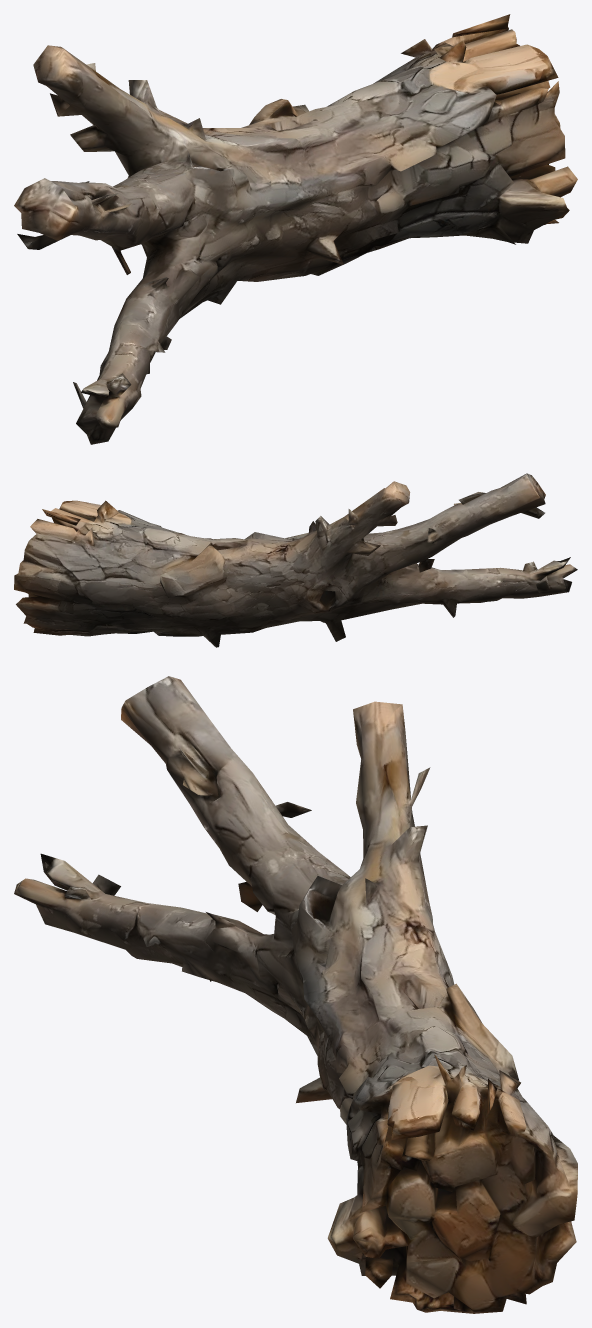
File: e_log.glb
3 renders of one model, top to bottom at view 1: azimuth 30°, elevation 25°; view 2: azimuth 150°, elevation 25°; view 3: azimuth 270°, elevation 25°, orthographic. The views are drawn at different scales.
Visible parts, largest first — view 1: tripo_node_05cba653-c34f-4658-bed8-ba67d39ff604; view 2: tripo_node_05cba653-c34f-4658-bed8-ba67d39ff604; view 3: tripo_node_05cba653-c34f-4658-bed8-ba67d39ff604.
Boxes of the visible parts, left/top/right/bottom form: tripo_node_05cba653-c34f-4658-bed8-ba67d39ff604: left=14, top=14, right=577, bottom=444; tripo_node_05cba653-c34f-4658-bed8-ba67d39ff604: left=14, top=473, right=577, bottom=647; tripo_node_05cba653-c34f-4658-bed8-ba67d39ff604: left=14, top=676, right=577, bottom=1313.
Bounding box in the file's own units: 1 × 0.4692 × 0.6893.
1 material, 1 textured.
